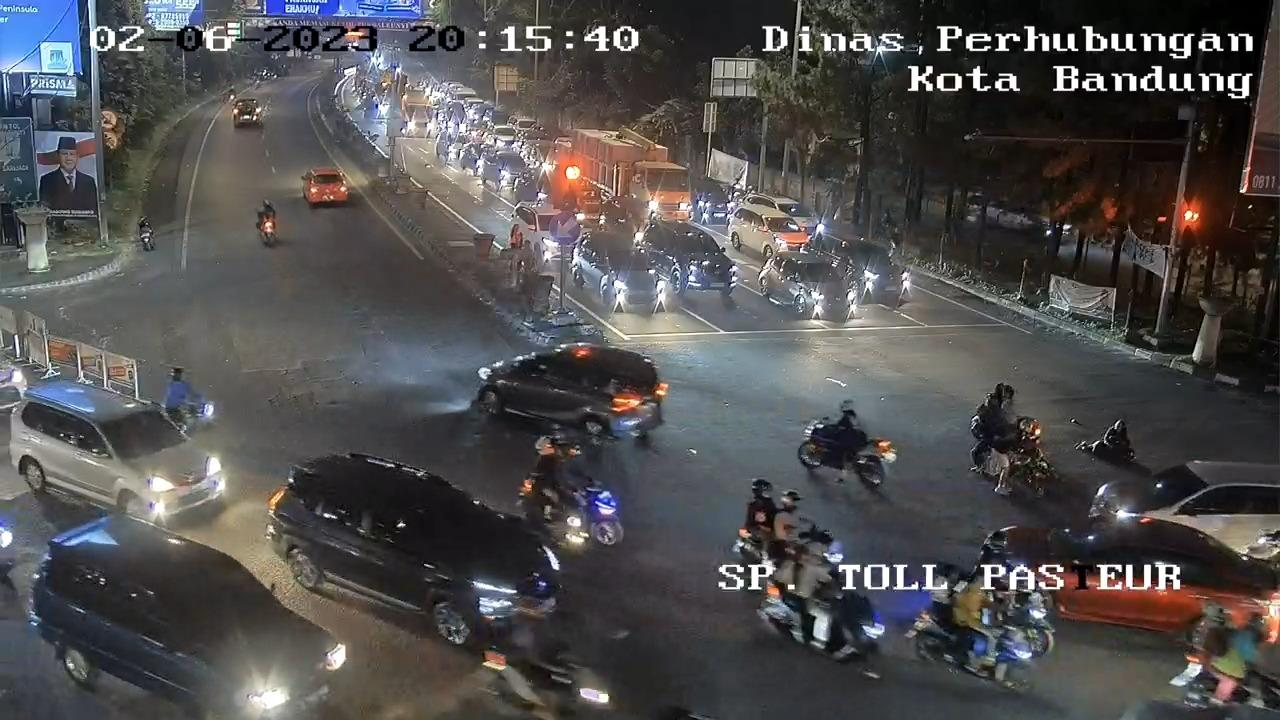accident: (1073, 418, 1136, 463)
